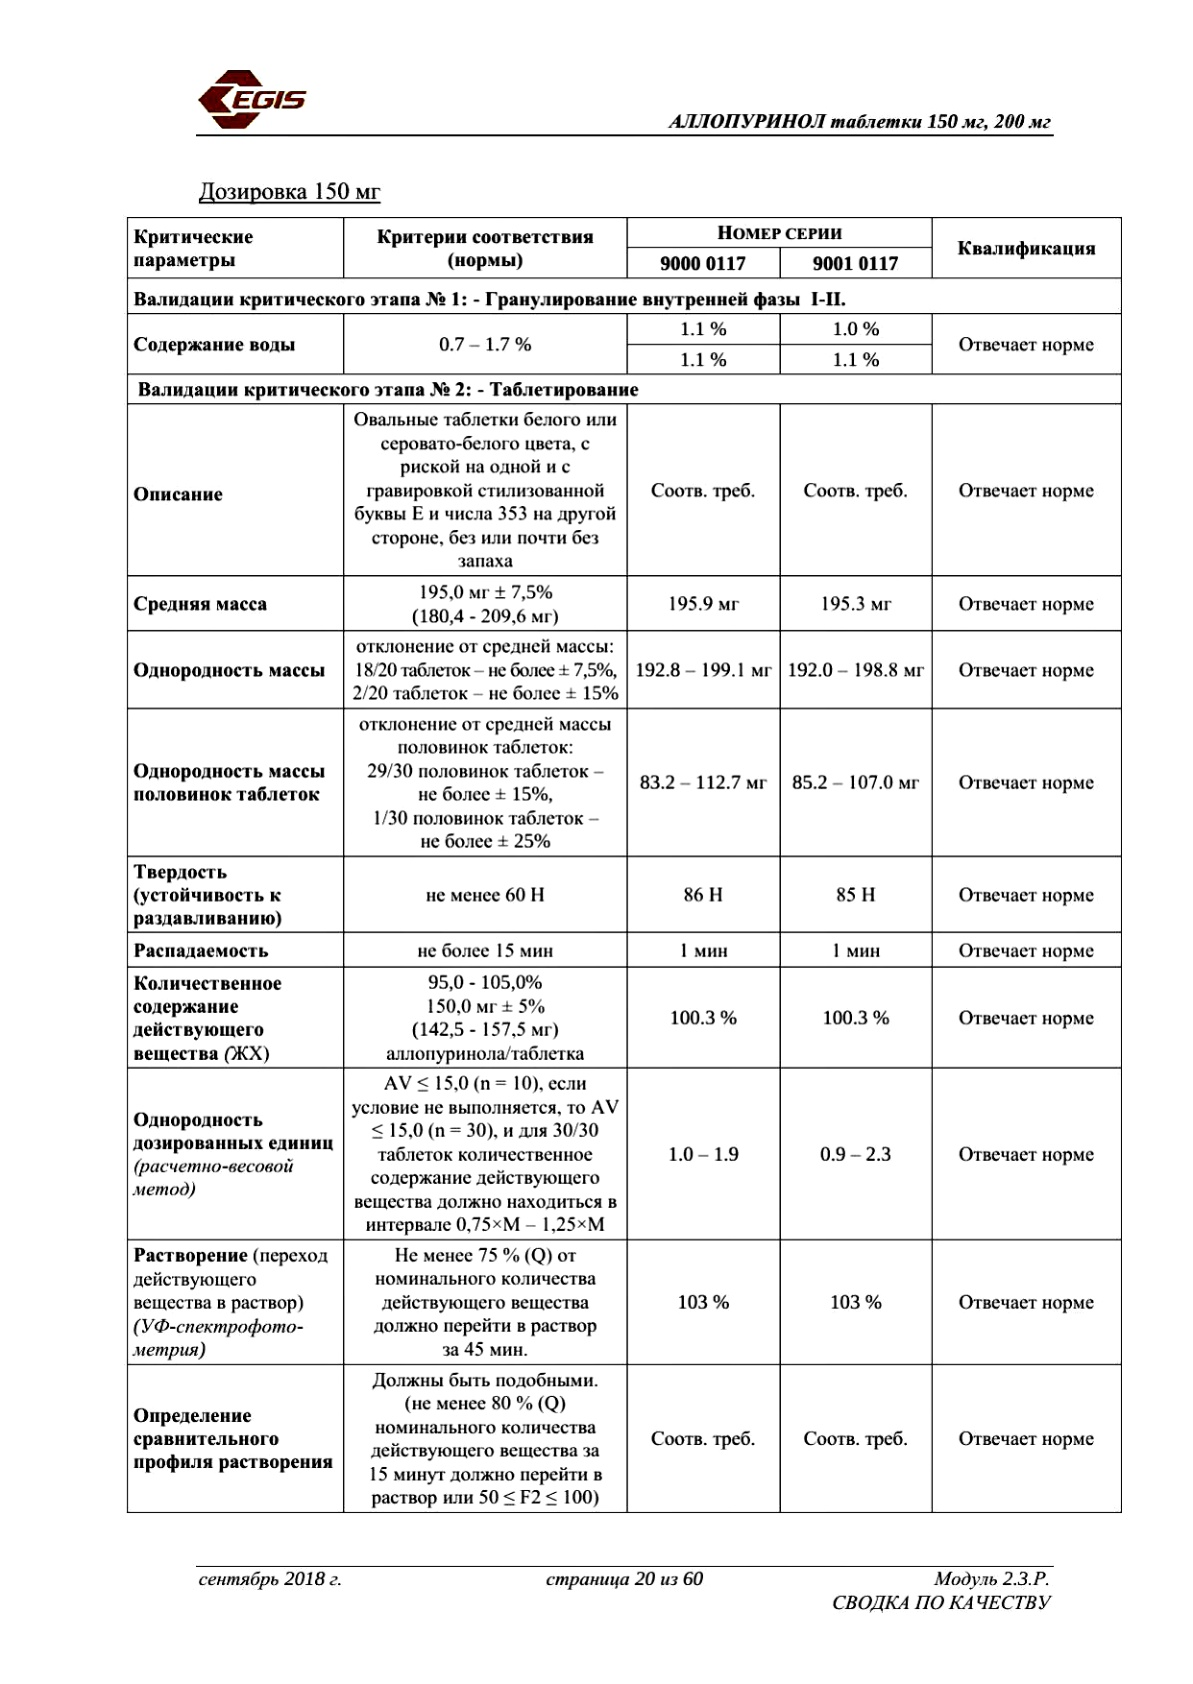merged_cells: (125, 216, 1122, 1514)
